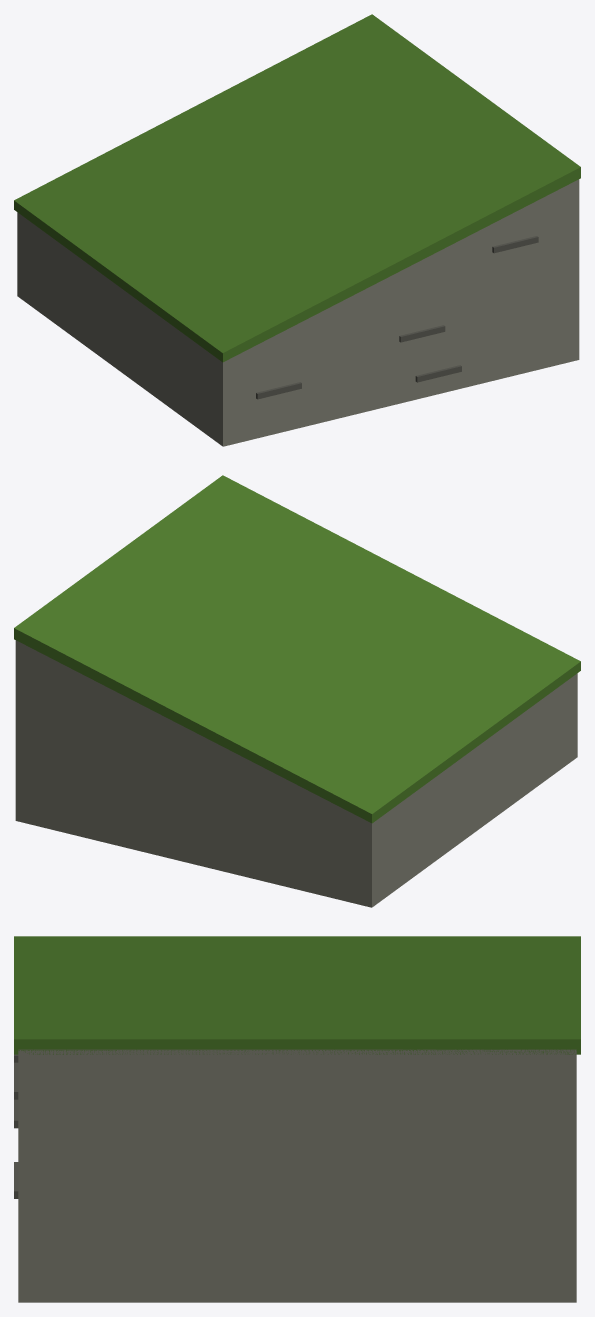
Rendered from ramp_short.glb.
The picture shows the model from 3 angles, top to bottom: view 1: azimuth 30°, elevation 25°; view 2: azimuth 150°, elevation 25°; view 3: azimuth 270°, elevation 25°; orthographic projection. The views are drawn at different scales.
Visible parts, largest first — view 1: moss-col, stone-col, stone_dark; view 2: moss-col, stone-col; view 3: stone-col, moss-col, stone_dark.
Part boxes in pixels (x1,y1,x2,y2): moss-col: [14, 14, 580, 362]; stone-col: [17, 179, 579, 446]; stone_dark: [256, 236, 538, 399]; moss-col: [14, 475, 580, 823]; stone-col: [15, 640, 577, 907]; stone-col: [18, 1049, 576, 1302]; moss-col: [14, 936, 580, 1054]; stone_dark: [14, 1054, 18, 1198].
Bounding box in the file's own units: 4.02 × 2.08 × 4.06.
